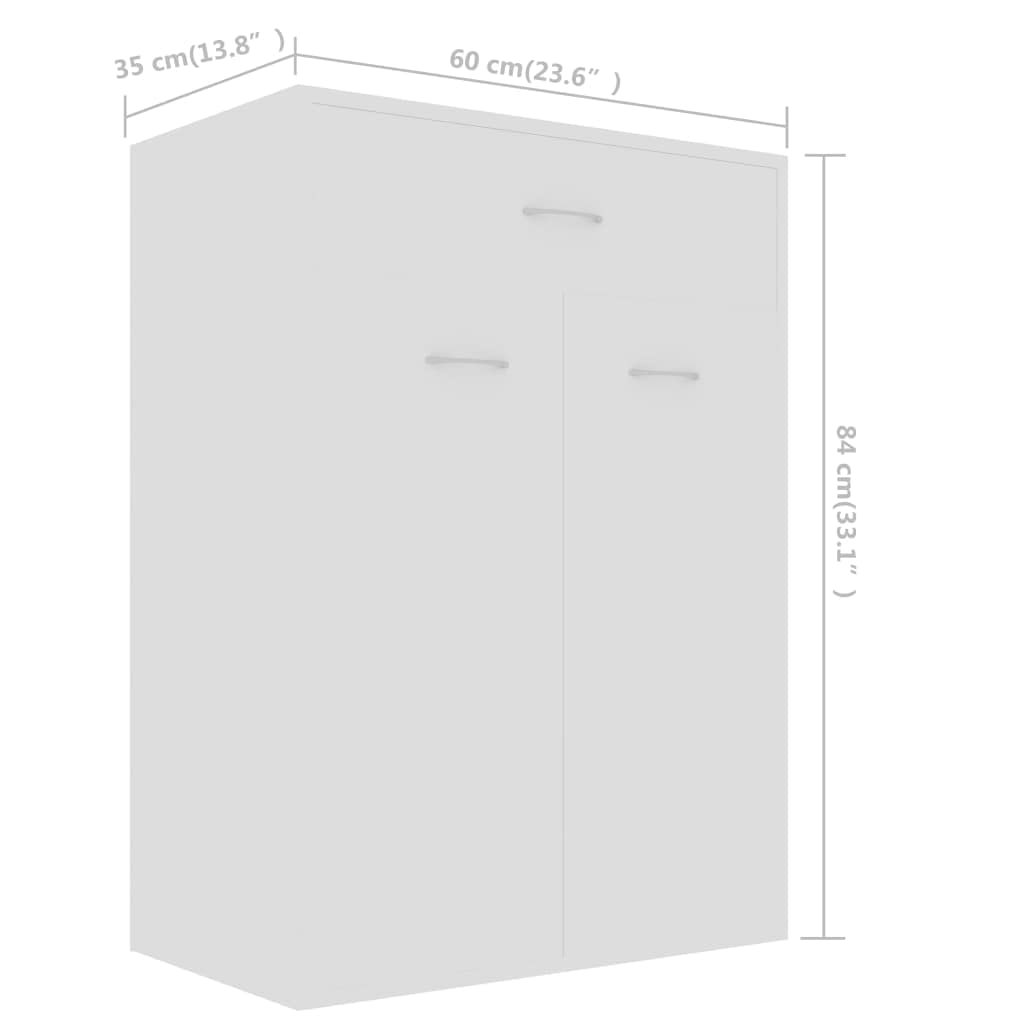3: (837, 477, 851, 499)
fal: (837, 464, 851, 475)
~: (833, 590, 856, 597)
